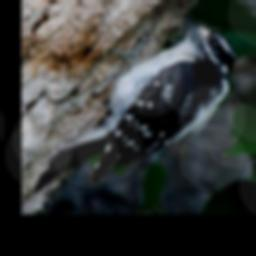Woodpecker: (29, 13, 240, 191)
